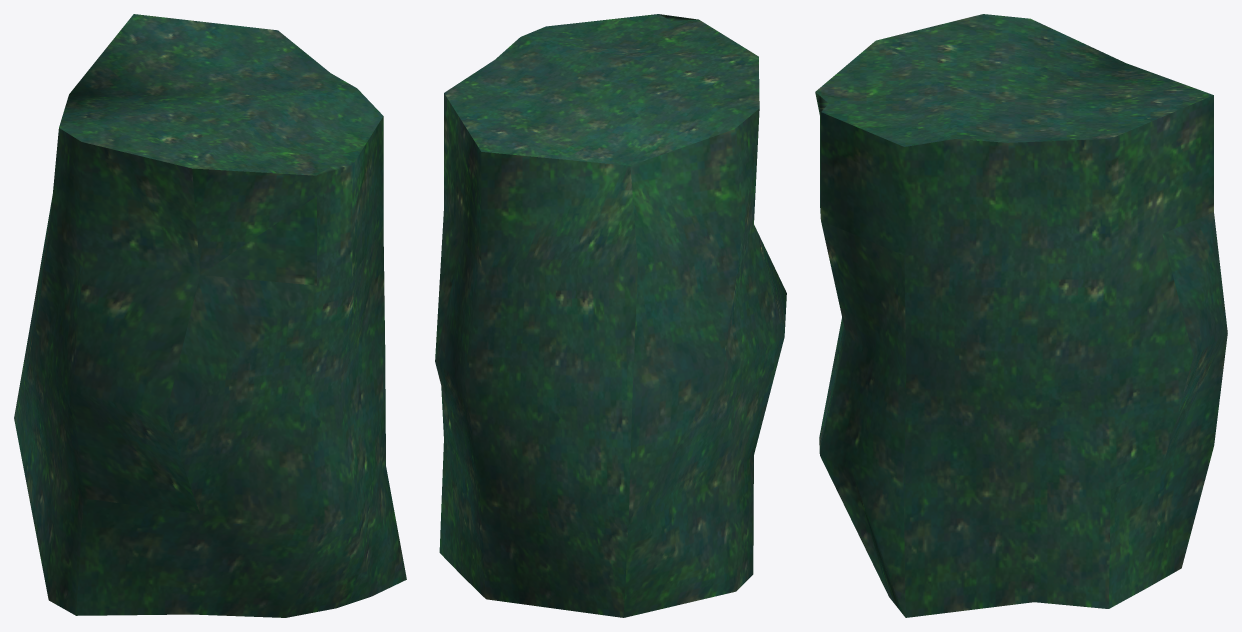
Rendered from MIRKWOOD_MIRK_PLAYSURFACE16.fbx.
The picture shows the model from 3 angles, left to right: view 1: azimuth 30°, elevation 25°; view 2: azimuth 150°, elevation 25°; view 3: azimuth 270°, elevation 25°; orthographic projection. The views are drawn at different scales.
Visible parts, largest first — view 1: MIRKWOOD_MIRK_PLAYSURFACE16; view 2: MIRKWOOD_MIRK_PLAYSURFACE16; view 3: MIRKWOOD_MIRK_PLAYSURFACE16.
Boxes of the visible parts, box(x1,y1,x2,y2) form: MIRKWOOD_MIRK_PLAYSURFACE16: box(14, 14, 406, 617); MIRKWOOD_MIRK_PLAYSURFACE16: box(435, 14, 786, 617); MIRKWOOD_MIRK_PLAYSURFACE16: box(815, 14, 1227, 617).
Bounding box in the file's own units: 33112 × 50000 × 39986.
Materials: 1 (1 with a texture image).
